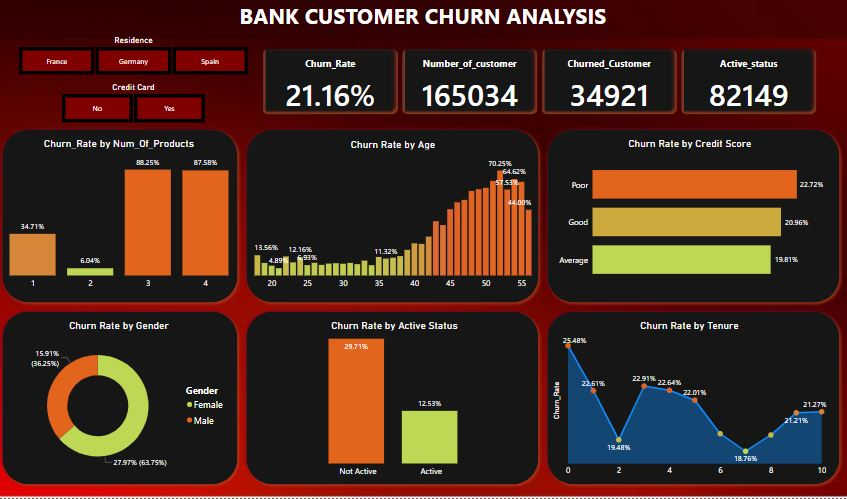

The dashboard page shown, as its layout file describes it:
{"tool":"powerbi","page":{"name":"Churn_analysis","canvas":[1700,1000],"ordinal":0},"visuals":[{"type":"shape","box":[0,0,1700,82],"z":0},{"type":"cardVisual","fields":{"Data":["cleaned_customer_info.Churn_Rate","cleaned_customer_info.Number_of_customer","cleaned_customer_info.Churned_Customer","Sum(cleaned_customer_info.Active_status)"]},"box":[524,96,1118,142],"z":1000},{"type":"textbox","box":[414.3,0,871.4,81.6],"z":2000},{"type":"shape","box":[488,254,602,364],"z":3000},{"type":"clusteredColumnChart","title":"Churn Rate by Age","fields":{"Category":["cleaned_customer_info.Age"],"Y":["cleaned_customer_info.Churn_Rate"]},"box":[504,280,572,310],"z":4000},{"type":"shape","box":[0,618,488,364],"z":5000},{"type":"shape","box":[1090,254,602,364],"z":6000},{"type":"donutChart","title":"Churn Rate by Gender","fields":{"Category":["cleaned_customer_info.Gender"],"Y":["cleaned_customer_info.Churn_Rate"]},"box":[18,642,448,324],"z":7000},{"type":"shape","box":[488,618,602,364],"z":8000},{"type":"shape","box":[1090,618,602,364],"z":9000},{"type":"areaChart","title":"Churn Rate by Tenure","fields":{"Category":["cleaned_customer_info.Tenure"],"Y":["cleaned_customer_info.Churn_Rate"]},"box":[1103.3,641.7,558.3,323.3],"z":10000},{"type":"columnChart","title":"Churn Rate by Active Status","fields":{"Category":["cleaned_customer_info.Active_or_not"],"Y":["cleaned_customer_info.Churn_Rate"]},"box":[524,642,538,324],"z":11000},{"type":"shape","box":[0,254,488,364],"z":12000},{"type":"columnChart","fields":{"Category":["cleaned_customer_info.Num_Of_Products"],"Y":["cleaned_customer_info.Churn_Rate"]},"box":[18,278,448,312],"z":13000},{"type":"clusteredBarChart","title":"Churn Rate by Credit Score","fields":{"Category":["cleaned_customer_info.Credit_score_range"],"Y":["cleaned_customer_info.Churn_Rate"]},"box":[1112,278,544,312],"z":14000},{"type":"slicer","title":"Residence ","fields":{"Values":["cleaned_customer_info.Places"]},"box":[18,74,506,84],"z":15000},{"type":"slicer","title":"Credit Card ","fields":{"Values":["cleaned_customer_info.has_credit_card"]},"box":[104,168,334,86],"z":16000}]}

Visuals, with their boxes in screenshot pixels (x1, y1, x2, y2), scaled from the page's 1700x1000 canvas onto the 847x499 screenshot:
shape: detection(0, 0, 846, 41)
cardVisual - cleaned_customer_info.Churn_Rate x cleaned_customer_info.Number_of_customer: detection(261, 48, 818, 119)
textbox: detection(206, 0, 641, 41)
shape: detection(243, 127, 543, 308)
"Churn Rate by Age" clusteredColumnChart: detection(251, 140, 536, 294)
shape: detection(0, 308, 243, 490)
shape: detection(543, 127, 843, 308)
"Churn Rate by Gender" donutChart: detection(9, 320, 232, 482)
shape: detection(243, 308, 543, 490)
shape: detection(543, 308, 843, 490)
"Churn Rate by Tenure" areaChart: detection(550, 320, 828, 482)
"Churn Rate by Active Status" columnChart: detection(261, 320, 529, 482)
shape: detection(0, 127, 243, 308)
columnChart - cleaned_customer_info.Num_Of_Products x cleaned_customer_info.Churn_Rate: detection(9, 139, 232, 294)
"Churn Rate by Credit Score" clusteredBarChart: detection(554, 139, 825, 294)
"Residence " slicer: detection(9, 37, 261, 79)
"Credit Card " slicer: detection(52, 84, 218, 127)
